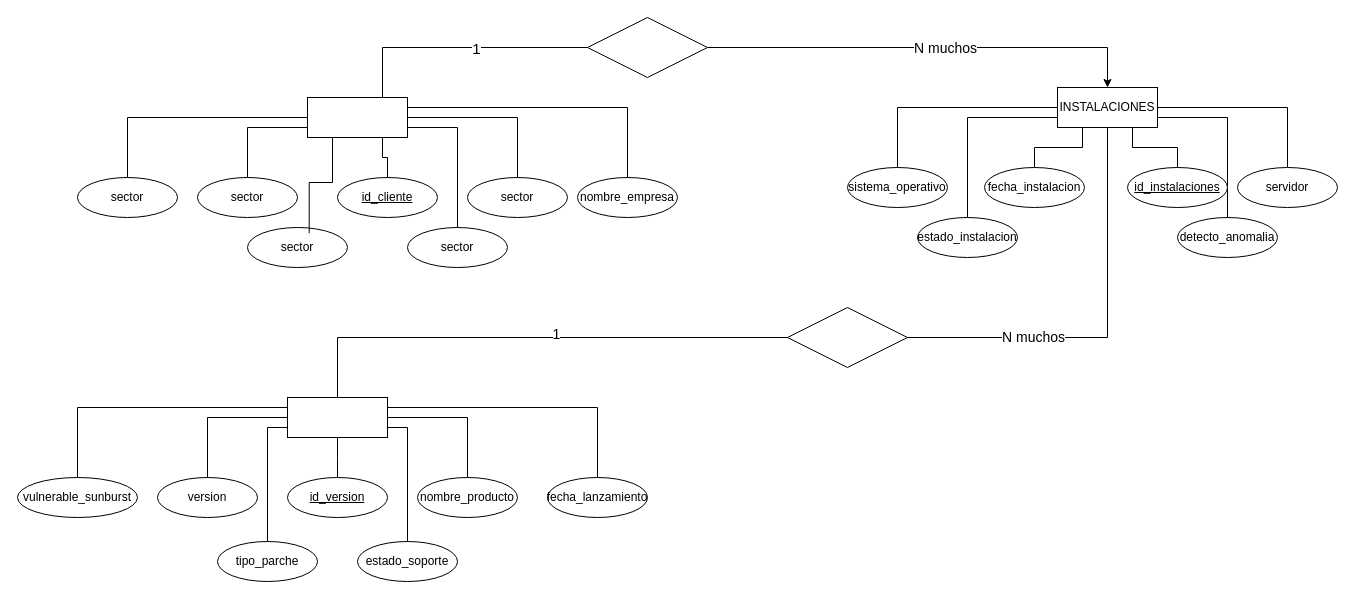
This 1355x599 diagram has some shape labels left out. Here are the shapes that lost their labels. From the top down, the centre of each, then its label:
At (647,47): "PERTENECE".
At (357,117): "CLIENTES".
At (847,337): "ASOCIAR".
At (337,417): "VERSIONES SOFTWARE".
